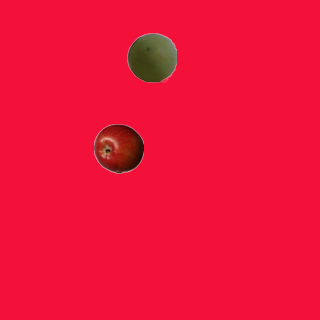Apple Braeburn: (93, 123, 143, 173)
Grape White 4: (126, 32, 176, 82)
